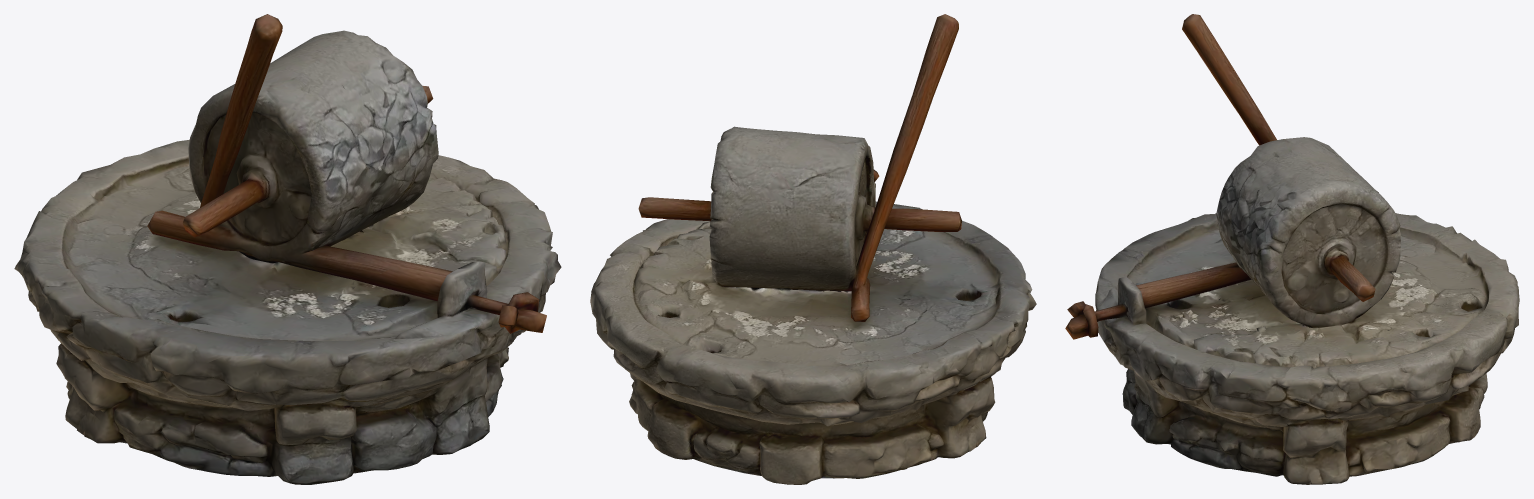
The model's file is v-mill.glb.
3 renders of one model, left to right at view 1: azimuth 30°, elevation 25°; view 2: azimuth 150°, elevation 25°; view 3: azimuth 270°, elevation 25°, orthographic. The views are drawn at different scales.
Parts seen in each view (by area): view 1: tripo_node_6a5eed00-aa37-49f9-bd2d-f0503066a0e2; view 2: tripo_node_6a5eed00-aa37-49f9-bd2d-f0503066a0e2; view 3: tripo_node_6a5eed00-aa37-49f9-bd2d-f0503066a0e2.
Part boxes in pixels (x1=…): tripo_node_6a5eed00-aa37-49f9-bd2d-f0503066a0e2: x1=14, y1=14, x2=561, y2=484; tripo_node_6a5eed00-aa37-49f9-bd2d-f0503066a0e2: x1=590, y1=14, x2=1036, y2=484; tripo_node_6a5eed00-aa37-49f9-bd2d-f0503066a0e2: x1=1065, y1=14, x2=1519, y2=484.
Size of the model in its own units: 0.9391 by 0.8693 by 1.
Materials: 1 (1 with a texture image).
